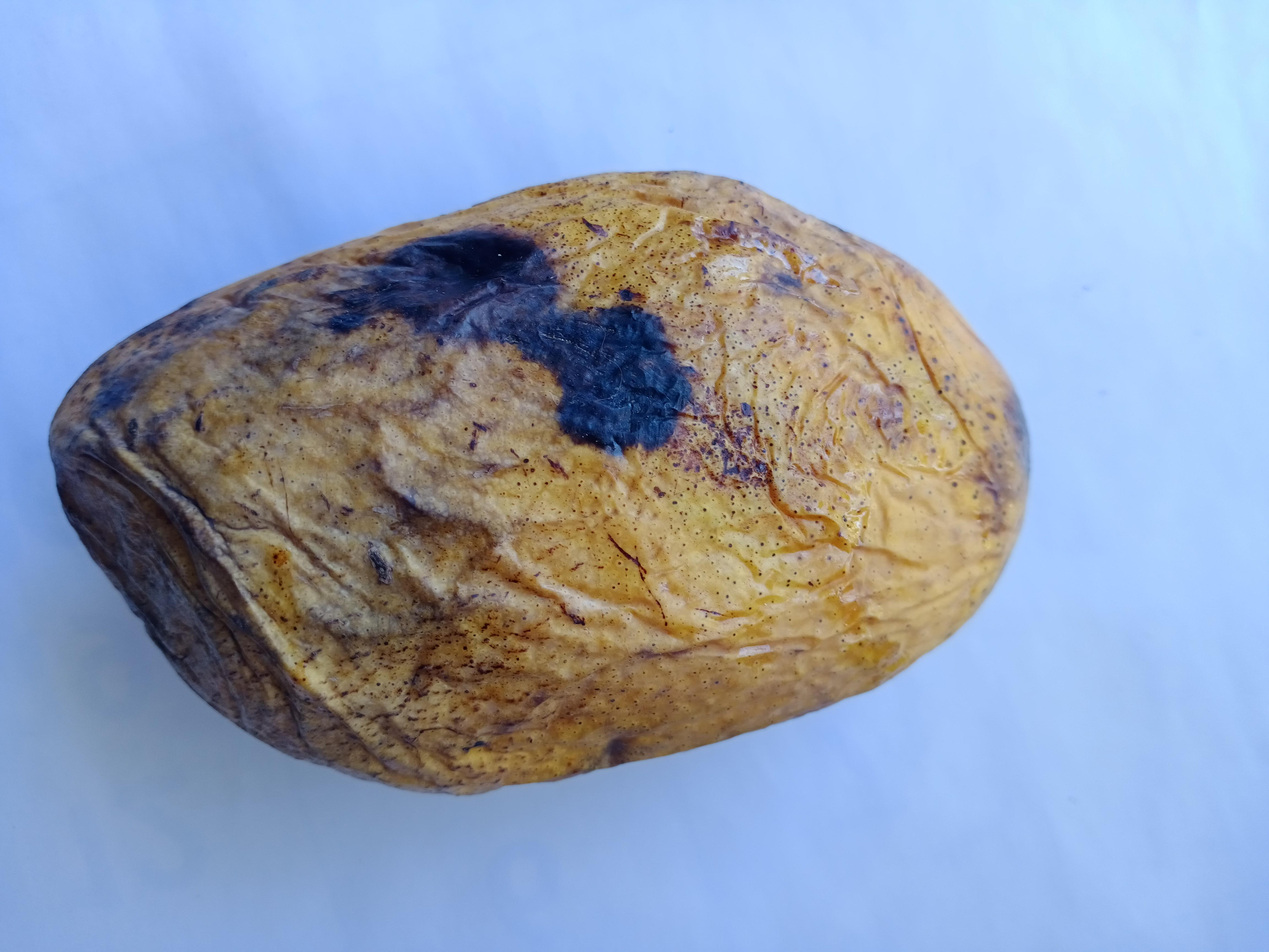Mango Overripe: (25, 140, 1049, 831)
